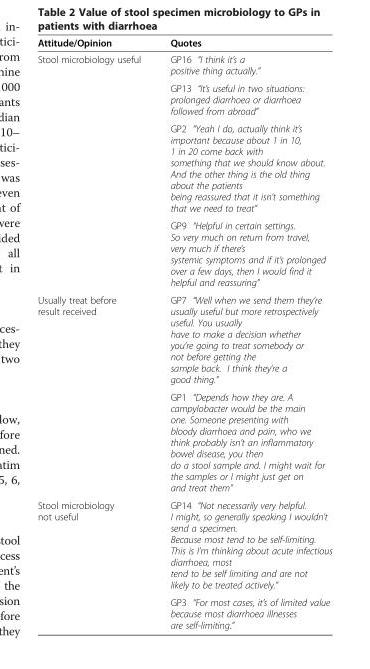table: (36, 36, 331, 630)
table column: (154, 36, 331, 630), (36, 36, 154, 630)
table column header: (36, 36, 331, 50)
table row: (36, 387, 331, 496), (36, 119, 331, 216), (36, 290, 331, 387), (36, 496, 331, 593), (36, 216, 331, 290), (36, 79, 331, 119), (36, 593, 331, 630), (36, 50, 331, 79), (36, 36, 331, 50)
table spanning cell: (36, 50, 154, 290), (36, 290, 154, 496), (36, 496, 154, 630)
